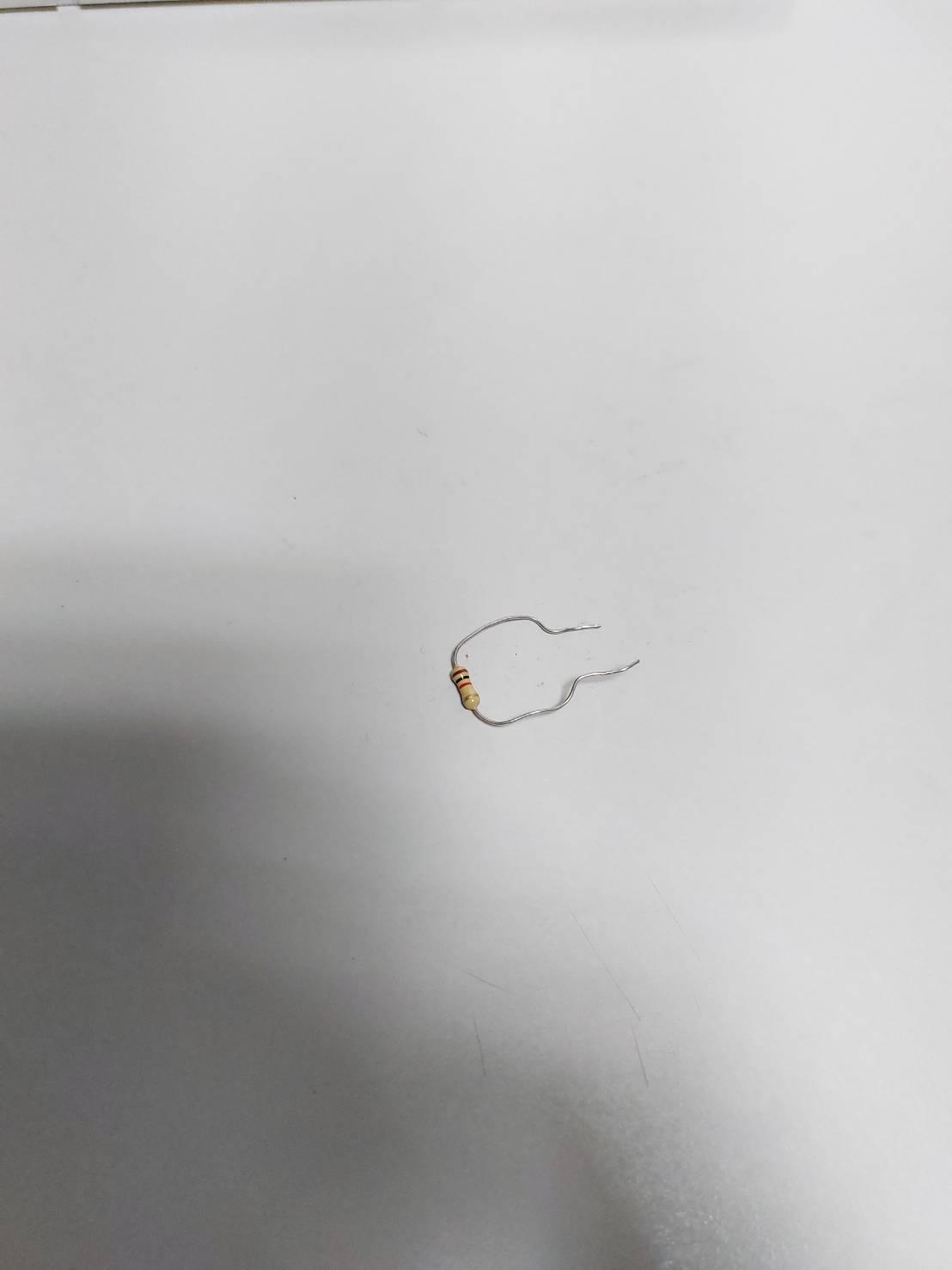resistor: (450, 666, 481, 711)
